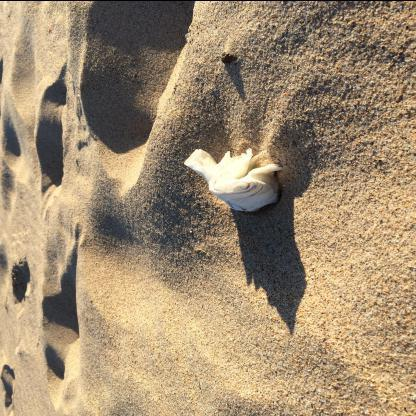diger: (184, 148, 286, 212)
